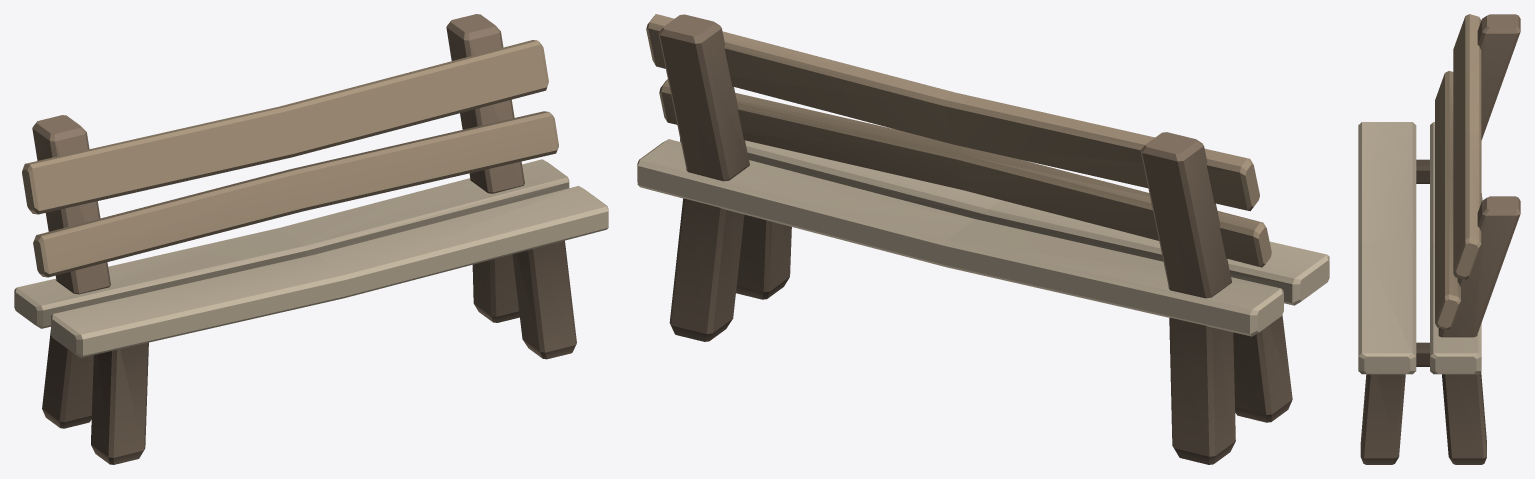
File: parkbench.glb
3 views of the same model, side by side, from view 1: azimuth 30°, elevation 25°; view 2: azimuth 150°, elevation 25°; view 3: azimuth 270°, elevation 25° (orthographic). The views are drawn at different scales.
Parts seen in each view (by area): view 1: parkbench; view 2: parkbench; view 3: parkbench.
Boxes of the visible parts, x1,y1,x2,y2 form: parkbench: [14, 14, 608, 464]; parkbench: [637, 14, 1329, 464]; parkbench: [1358, 14, 1520, 464].
Size of the model in its own units: 2.07 by 1.03 by 0.6055.
